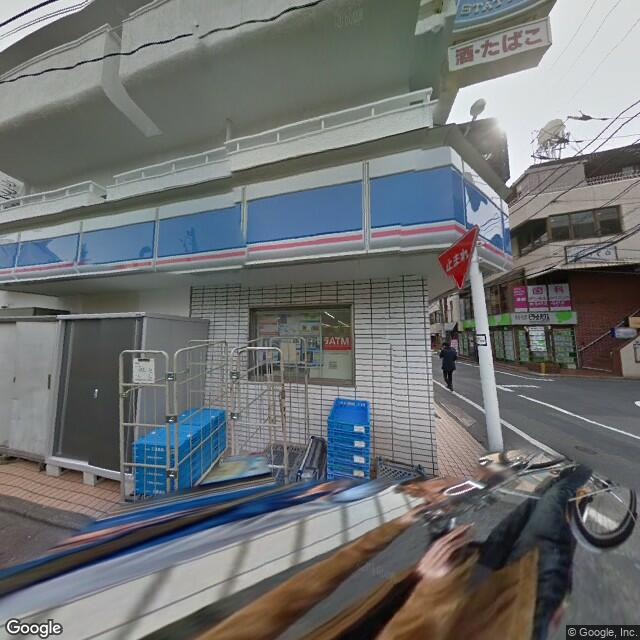lawson: (1, 147, 513, 288)
